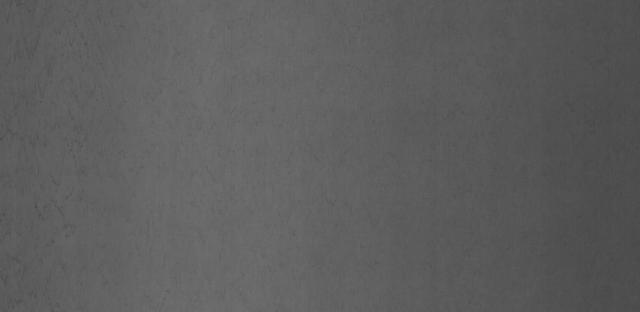silk_spot: (11, 40, 107, 220)
